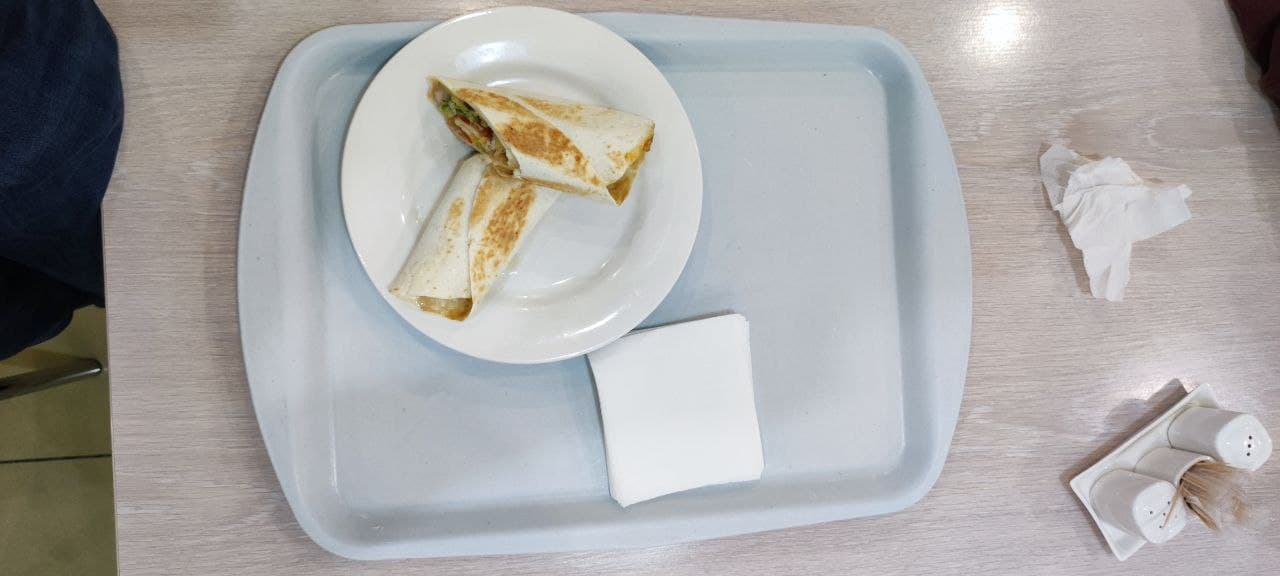Кесадилья с курицей: (384, 77, 652, 324)
Поднос: (237, 21, 973, 558)
Салфетки: (592, 316, 765, 487)
Тарелка: (341, 4, 704, 363)
